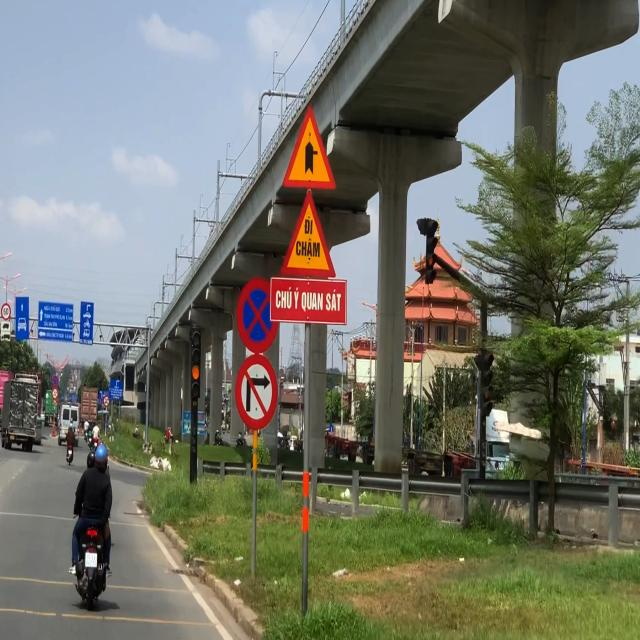Cam dung va do: (236, 277, 279, 354), (52, 376, 59, 388)
Cam re phai: (235, 353, 279, 431)
Giao voi duong khong uu tien: (281, 102, 337, 189)
Nguy hiem: (279, 189, 337, 279)
Toc do toi da: (1, 302, 11, 321)
